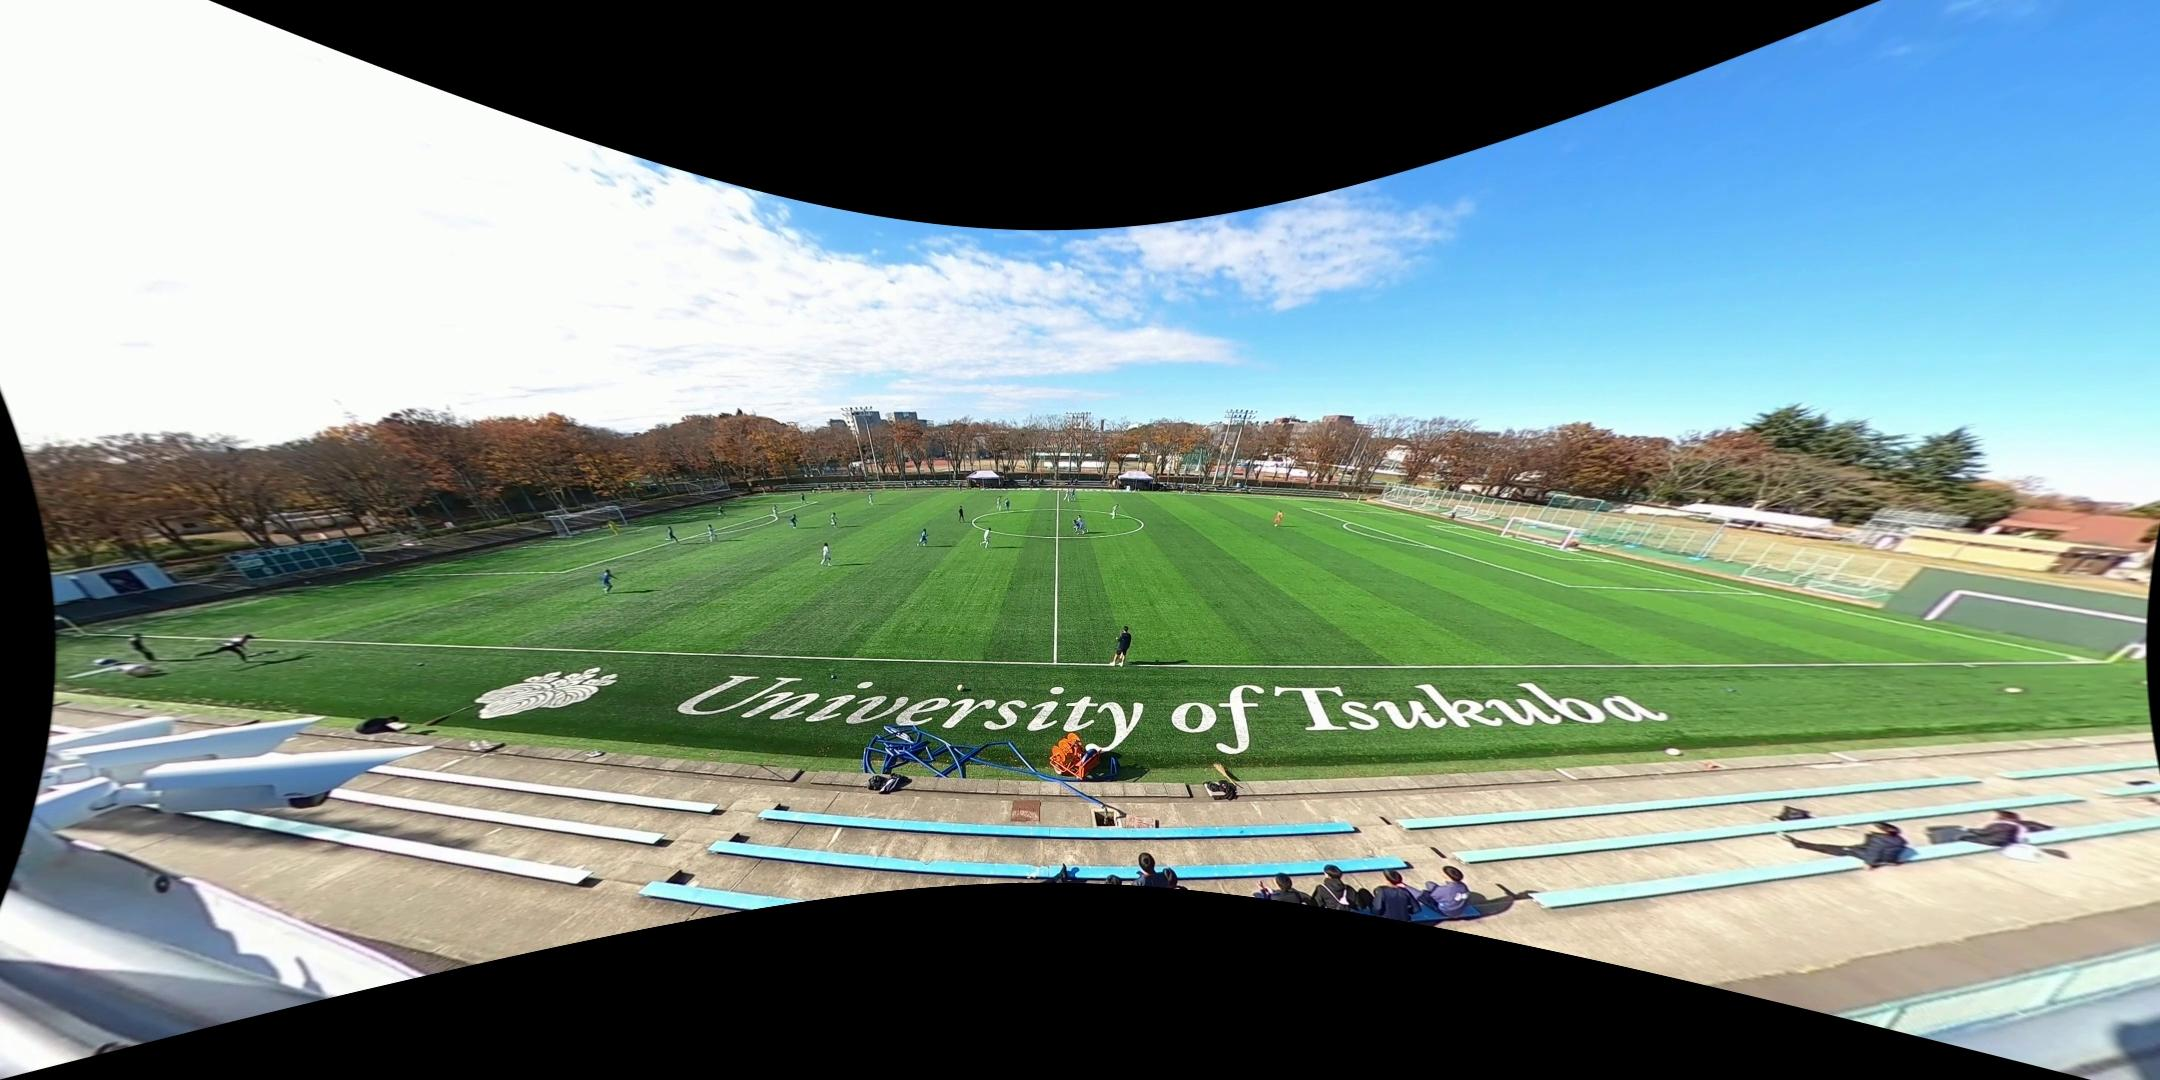person: (1109, 624, 1135, 668), (597, 568, 621, 595), (821, 540, 833, 567), (979, 527, 993, 549), (1074, 514, 1089, 534), (665, 526, 680, 544), (1273, 508, 1287, 527), (916, 527, 929, 547), (706, 523, 719, 543), (607, 519, 621, 537), (1072, 520, 1087, 535), (716, 503, 728, 519), (829, 511, 839, 528), (790, 513, 800, 530), (1109, 503, 1120, 518), (867, 493, 877, 507), (1003, 498, 1012, 513), (771, 504, 780, 518), (996, 496, 1003, 513), (958, 505, 965, 522), (1064, 487, 1071, 502), (1070, 486, 1077, 501), (800, 492, 807, 506), (957, 481, 964, 494)
sports ball: (2001, 683, 2027, 698), (1664, 745, 1685, 758), (957, 682, 966, 692), (1418, 705, 1426, 714)
